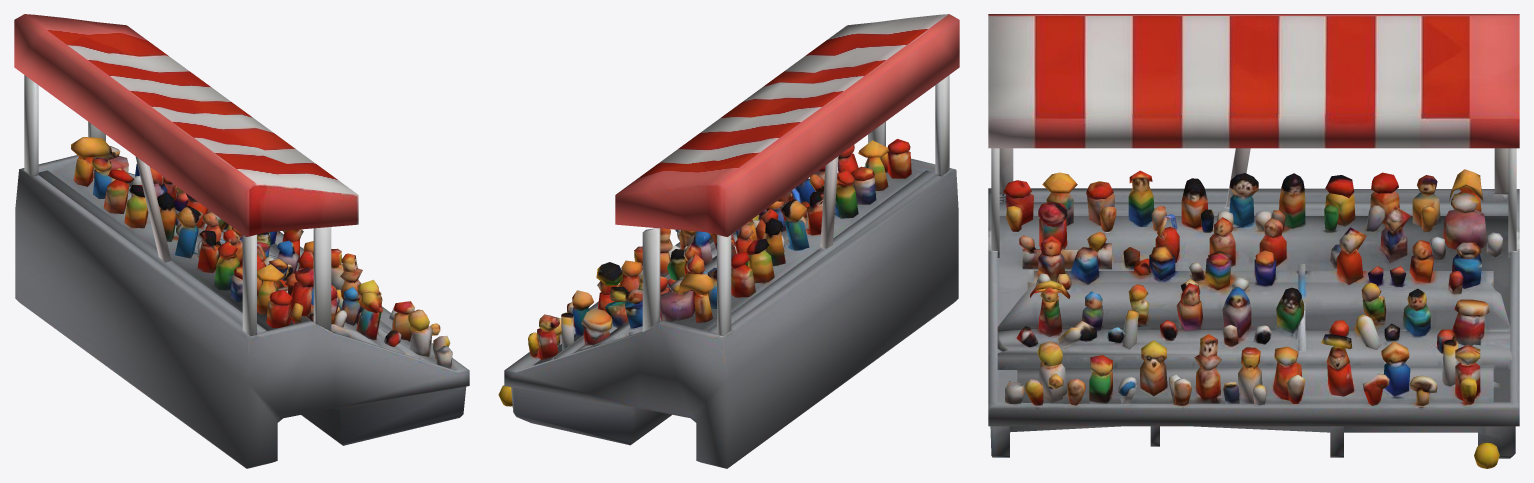
File: grandstand.glb
The picture shows the model from 3 angles, left to right: view 1: azimuth 30°, elevation 25°; view 2: azimuth 150°, elevation 25°; view 3: azimuth 270°, elevation 25°; orthographic projection. The views are drawn at different scales.
Visible parts, largest first — view 1: tripo_node_5f6f897c-7405-4325-8909-53ca4dc20f99; view 2: tripo_node_5f6f897c-7405-4325-8909-53ca4dc20f99; view 3: tripo_node_5f6f897c-7405-4325-8909-53ca4dc20f99.
Boxes of the visible parts, x1=… form: tripo_node_5f6f897c-7405-4325-8909-53ca4dc20f99: x1=14, y1=14, x2=469, y2=468; tripo_node_5f6f897c-7405-4325-8909-53ca4dc20f99: x1=498, y1=14, x2=959, y2=468; tripo_node_5f6f897c-7405-4325-8909-53ca4dc20f99: x1=988, y1=14, x2=1519, y2=468.
Size of the model in its own units: 0.5996 by 0.6855 by 0.998.
1 material, 1 textured.
